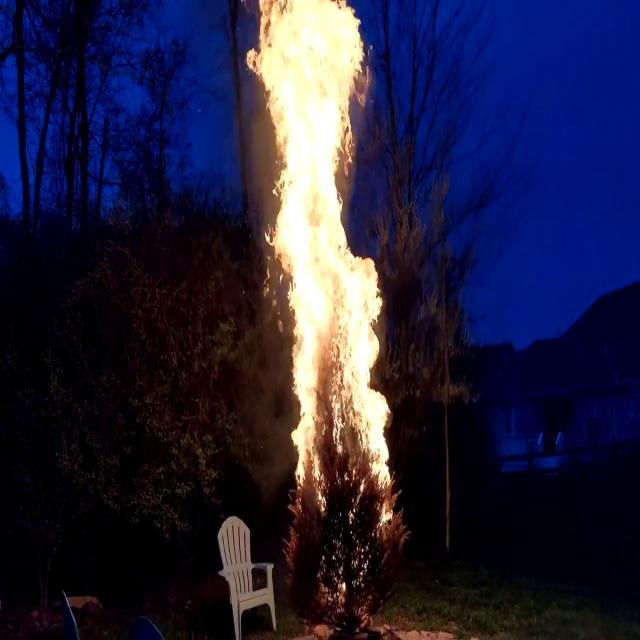Fire: (239, 0, 397, 517)
